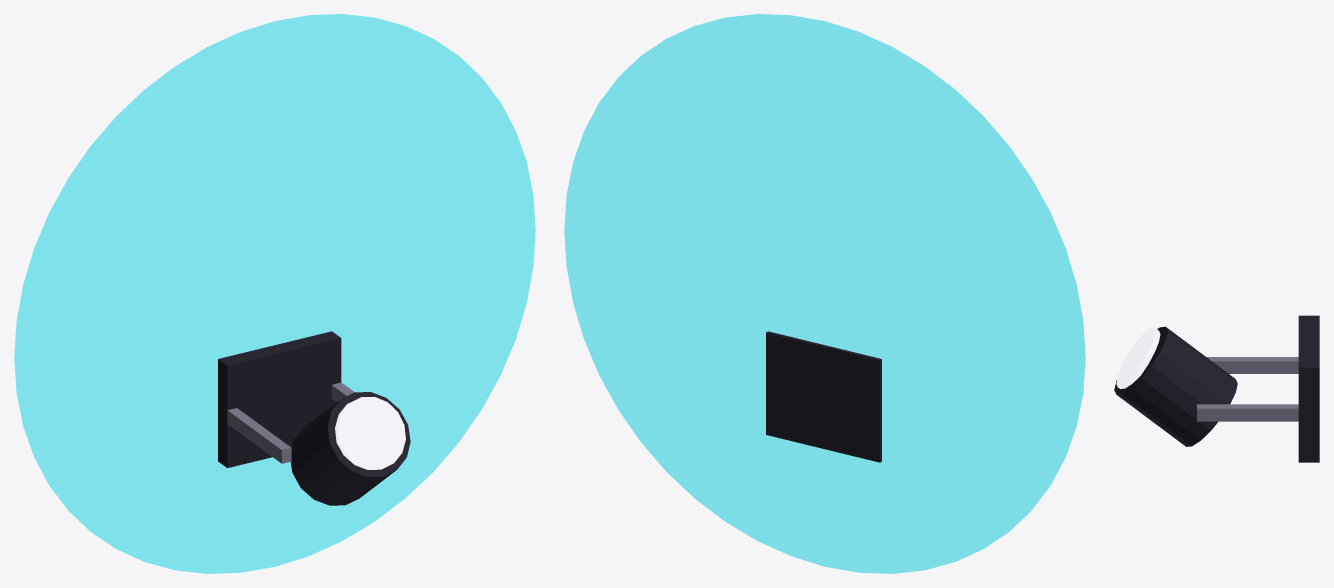
The model's file is projecteur_sol.glb.
The picture shows the model from 3 angles, left to right: view 1: azimuth 30°, elevation 25°; view 2: azimuth 150°, elevation 25°; view 3: azimuth 270°, elevation 25°; orthographic projection. The views are drawn at different scales.
Parts seen in each view (by area): view 1: flaque, socle, corps, verre, etrier; view 2: flaque, socle; view 3: corps, socle, etrier.001, etrier, verre.
Part boxes in pixels (box(x1,y1,x2,y2)): flaque: box(14, 14, 535, 573); socle: box(218, 331, 341, 467); corps: box(290, 392, 410, 505); verre: box(335, 396, 405, 469); etrier: box(227, 408, 291, 463); flaque: box(564, 14, 1085, 573); socle: box(766, 331, 881, 462); corps: box(1114, 326, 1237, 446); socle: box(1298, 315, 1319, 462); etrier.001: box(1197, 404, 1298, 421); etrier: box(1206, 357, 1298, 373); verre: box(1116, 327, 1160, 388).
Bounding box in the file's own units: 3.2 × 3.2 × 1.17.
